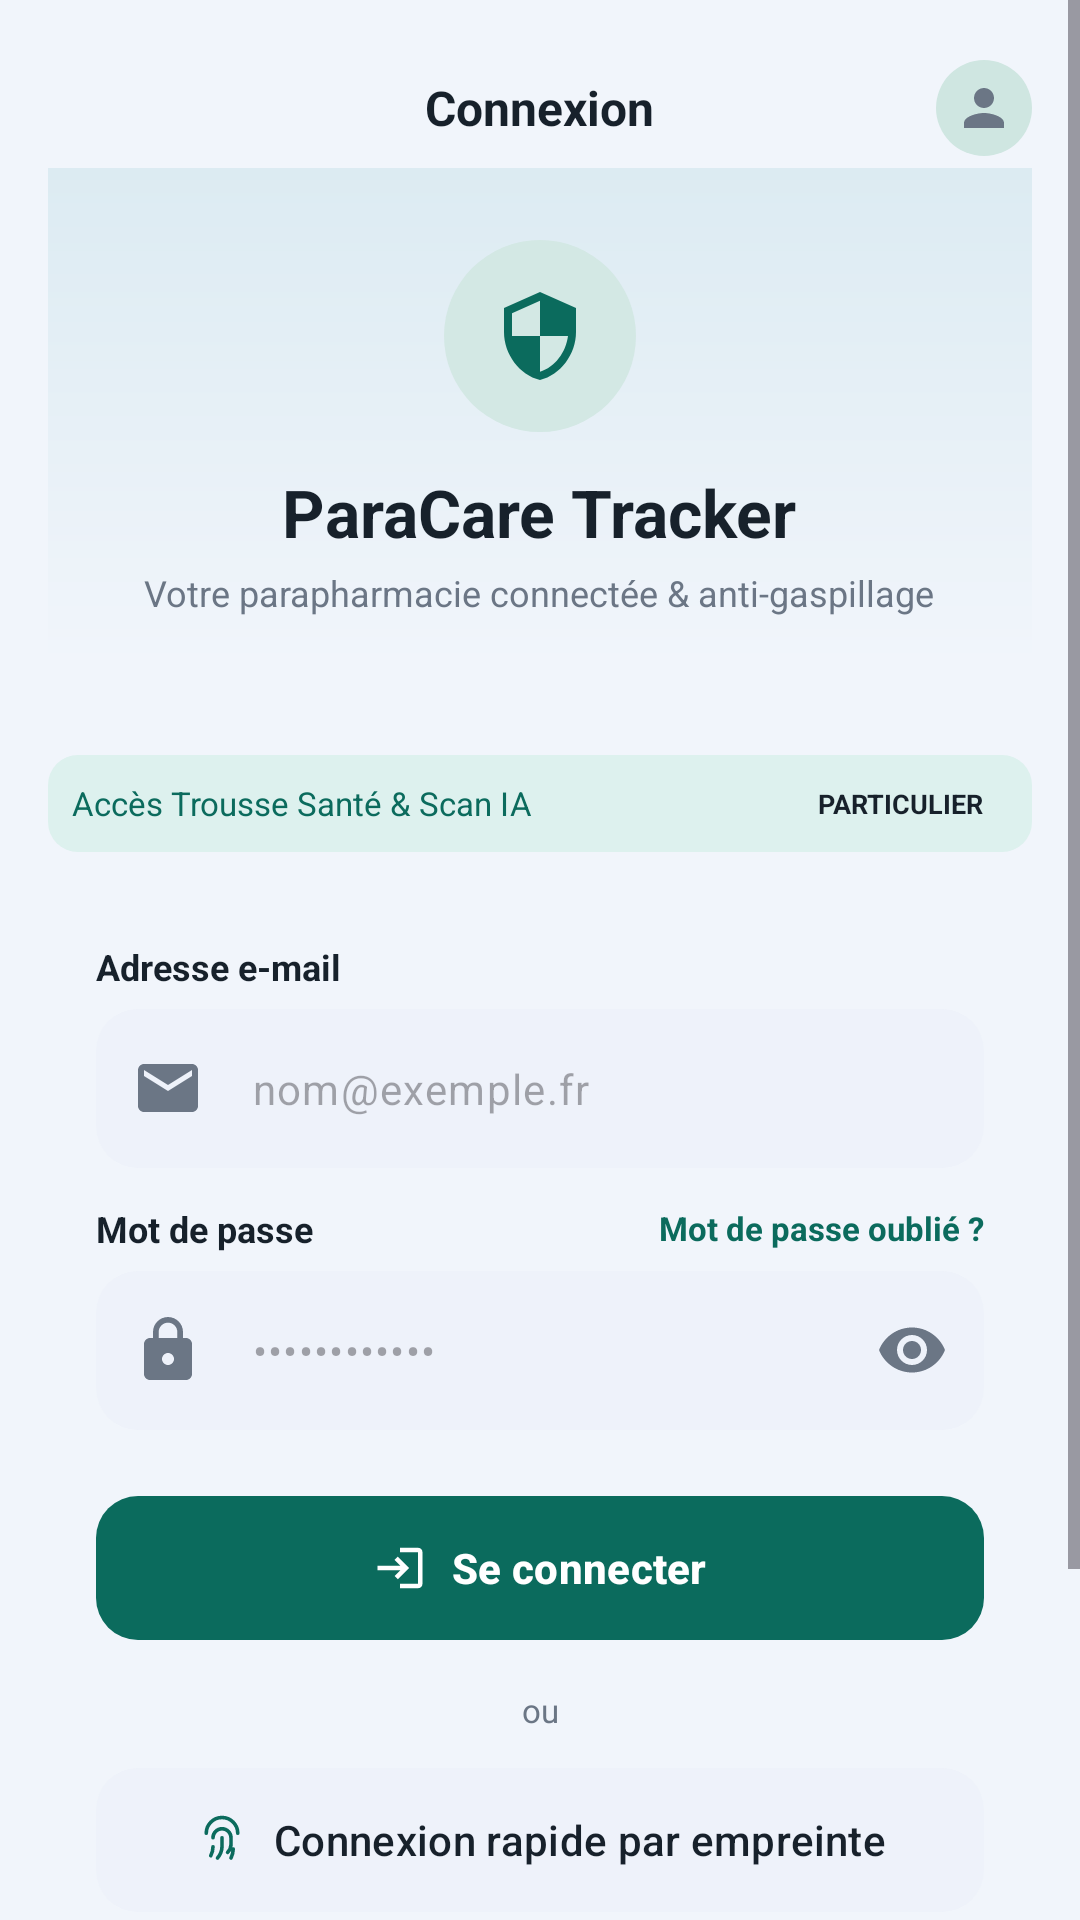

Locate icon controls on the screen. Image size 1080 × 1920, boxes as (x1, y1, x2, y2).
person: (936, 60, 1032, 156)
shield: (504, 292, 576, 380)
